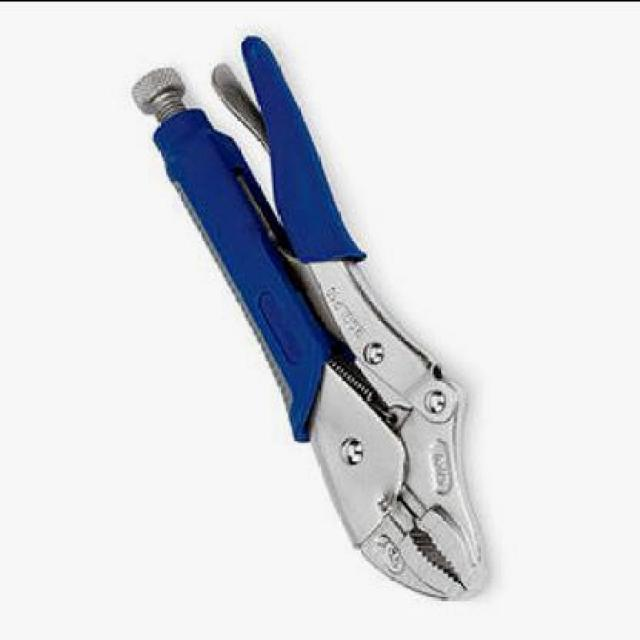pliers: (118, 31, 488, 600)
